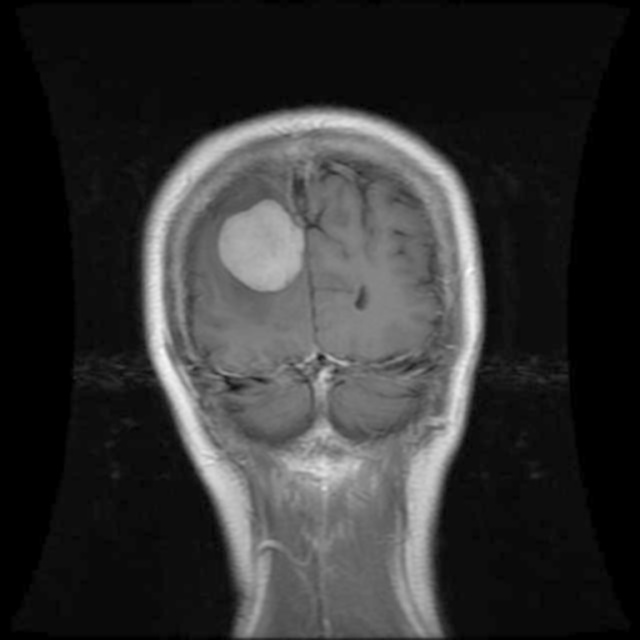meningioma tumor: (205, 189, 316, 299)
